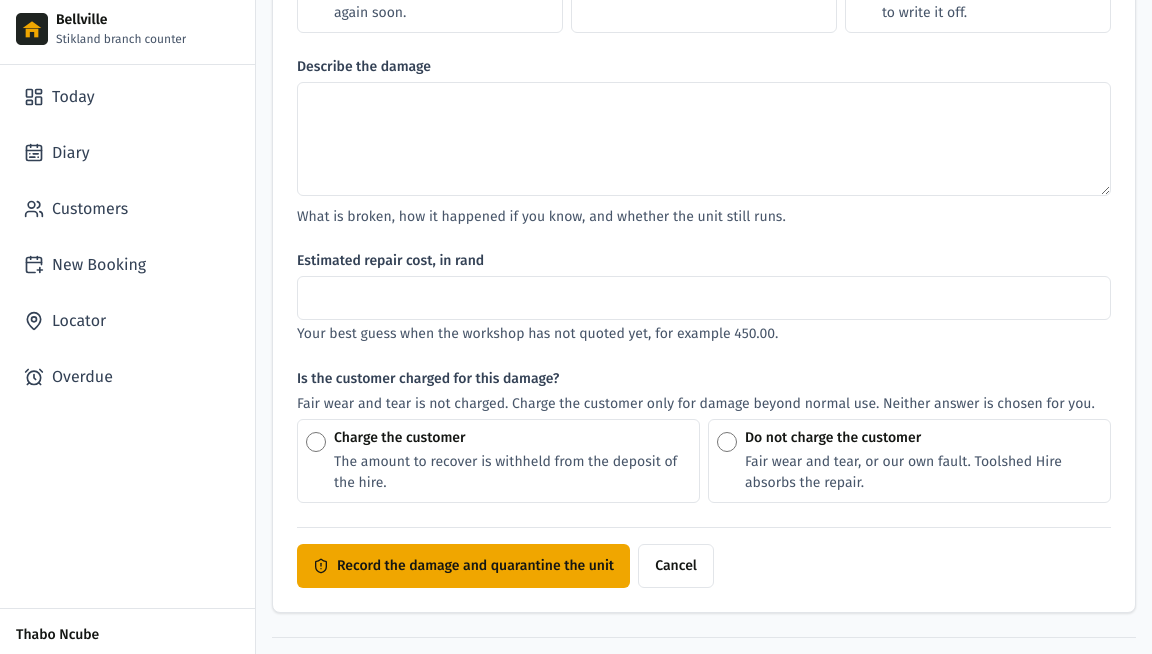
Test case: the form › asks for the amount to recover only when the customer is charged on a hire
(page scrolled)
What coordinates should you click on to do the following:
click the 1st radio button
I would click on:
 (316, 442)
Its box is [306,432,326,452].
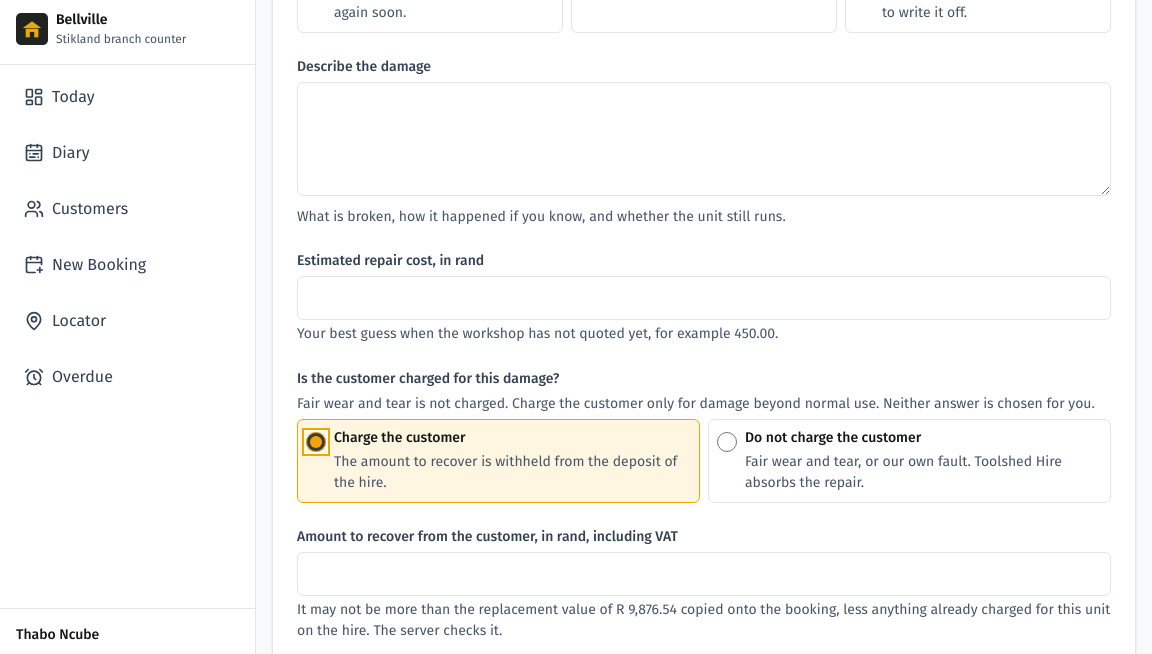
What coordinates should you click on to do the following:
click the 2nd radio button
I would click on:
 (727, 442)
Its box is [717,432,737,452].
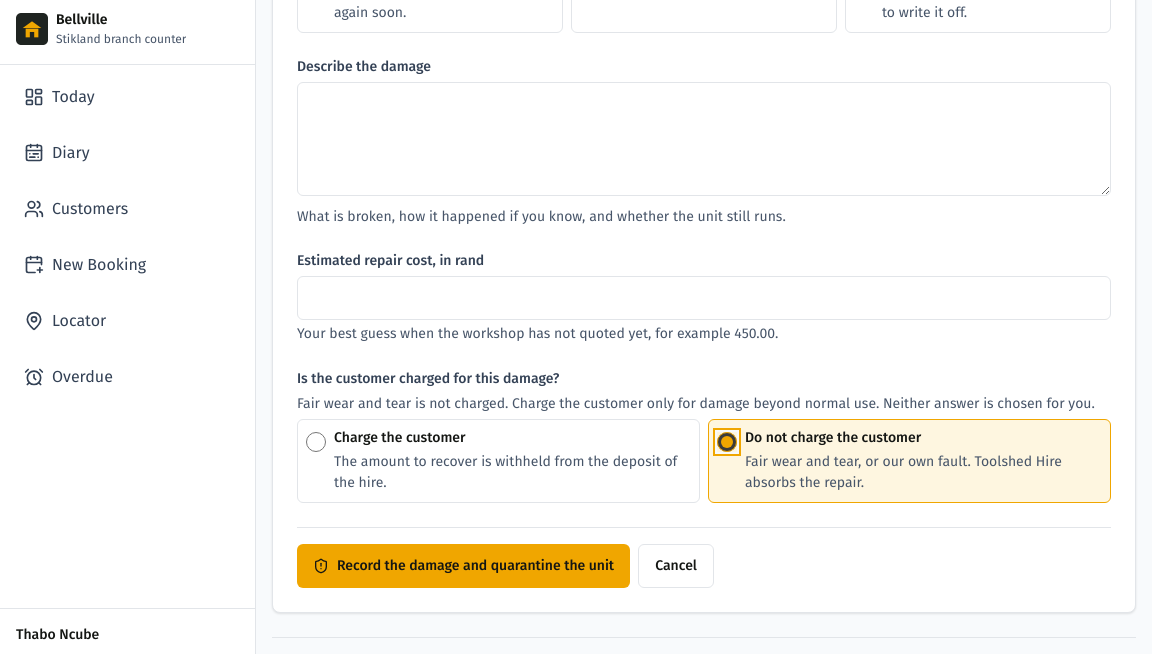
Expected: the label labelled "Amount to recover from the customer, in rand, including VAT" is gone
